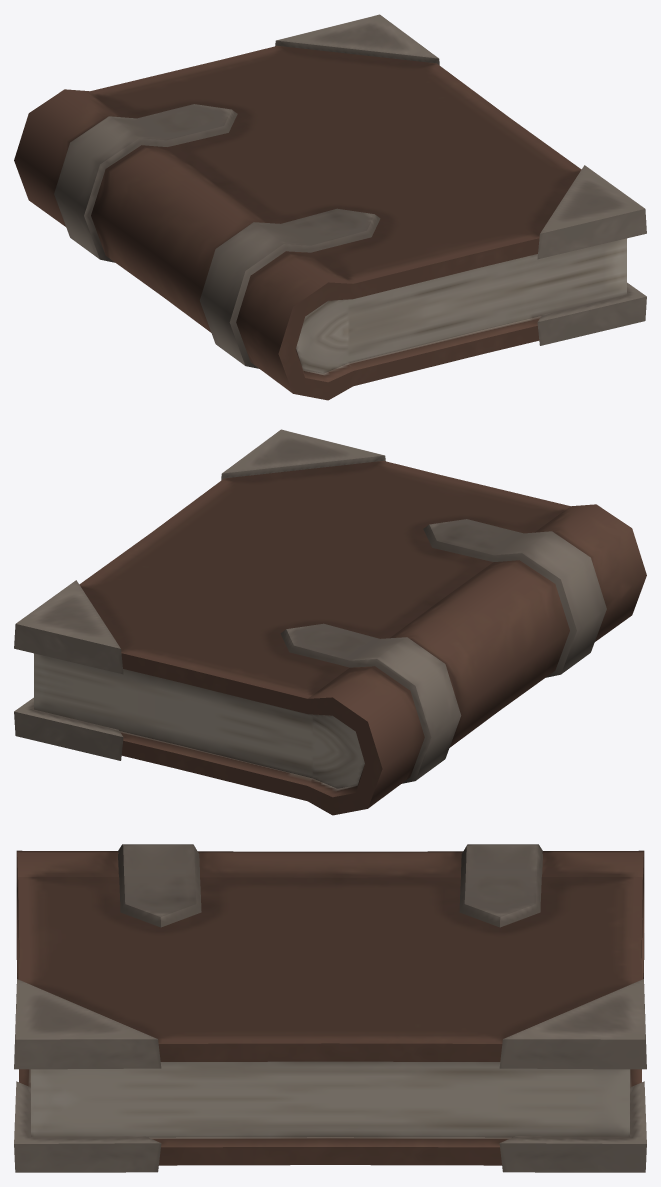
3 renders of one model, top to bottom at view 1: azimuth 30°, elevation 25°; view 2: azimuth 150°, elevation 25°; view 3: azimuth 270°, elevation 25°, orthographic. The views are drawn at different scales.
Parts seen in each view (by area): view 1: submesh_0; view 2: submesh_0; view 3: submesh_0.
Part boxes in pixels (bbox=[...]): submesh_0: bbox=[14, 14, 646, 400]; submesh_0: bbox=[14, 429, 646, 815]; submesh_0: bbox=[14, 844, 646, 1172].
Size of the model in its own units: 0.3156 by 0.1052 by 0.3921.
Materials: 1 (1 with a texture image).
